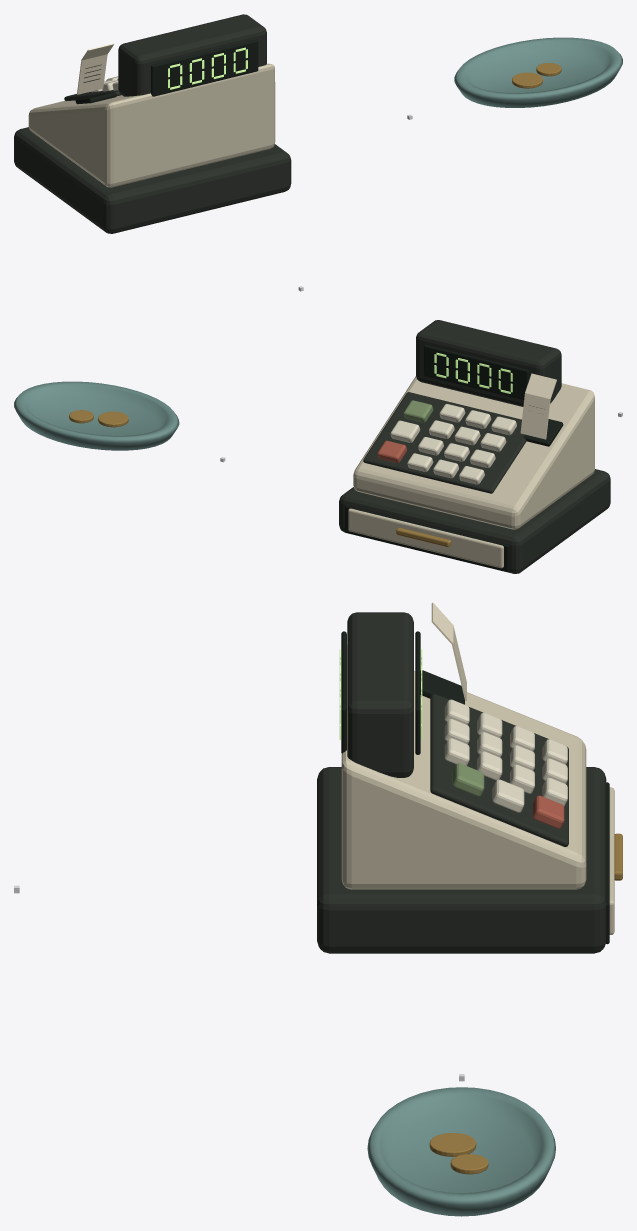
File: japan_kit31_cafe_register.fbx
The picture shows the model from 3 angles, top to bottom: view 1: azimuth 30°, elevation 25°; view 2: azimuth 150°, elevation 25°; view 3: azimuth 270°, elevation 25°; orthographic projection. The views are drawn at different scales.
Visible parts, largest first — view 1: CR1_Register_Charcoal, CR1_Register_Cream, CR1_Tray_Celadon, CR1_Register_Black, CR1_Register_Paper, CR1_Tray_Brass, CR1_Register_Display; view 2: CR1_Register_Charcoal, CR1_Register_Cream, CR1_Tray_Celadon, CR1_Register_Keys, CR1_Register_Black, CR1_Register_Paper, CR1_Tray_Brass, CR1_Register_Display, CR1_Register_Sage, CR1_Register_Rose, CR1_Register_Brass; view 3: CR1_Register_Charcoal, CR1_Register_Cream, CR1_Tray_Celadon, CR1_Register_Keys, CR1_Register_Black, CR1_Tray_Brass, CR1_Register_Paper.
Boxes of the visible parts, x1,y1,x2,y2 form: CR1_Register_Charcoal: [14, 14, 291, 233]; CR1_Register_Cream: [28, 63, 275, 187]; CR1_Tray_Celadon: [454, 37, 622, 107]; CR1_Register_Black: [75, 39, 258, 104]; CR1_Register_Paper: [77, 43, 114, 94]; CR1_Tray_Brass: [512, 63, 561, 88]; CR1_Register_Display: [168, 47, 247, 89]; CR1_Register_Charcoal: [339, 320, 610, 573]; CR1_Register_Cream: [348, 376, 594, 568]; CR1_Tray_Celadon: [14, 381, 179, 450]; CR1_Register_Keys: [390, 404, 516, 484]; CR1_Register_Black: [345, 345, 563, 571]; CR1_Register_Paper: [520, 373, 556, 439]; CR1_Tray_Brass: [69, 410, 128, 427]; CR1_Register_Display: [434, 352, 512, 393]; CR1_Register_Sage: [403, 400, 433, 422]; CR1_Register_Rose: [377, 440, 406, 462]; CR1_Register_Brass: [396, 527, 451, 547]; CR1_Register_Charcoal: [317, 612, 606, 953]; CR1_Register_Cream: [341, 645, 614, 934]; CR1_Tray_Celadon: [367, 1087, 555, 1216]; CR1_Register_Keys: [444, 699, 567, 812]; CR1_Register_Black: [341, 631, 609, 944]; CR1_Tray_Brass: [429, 1133, 488, 1174]; CR1_Register_Paper: [431, 603, 466, 700].
Bounding box in the file's own units: 4.33 × 1.21 × 2.74.
